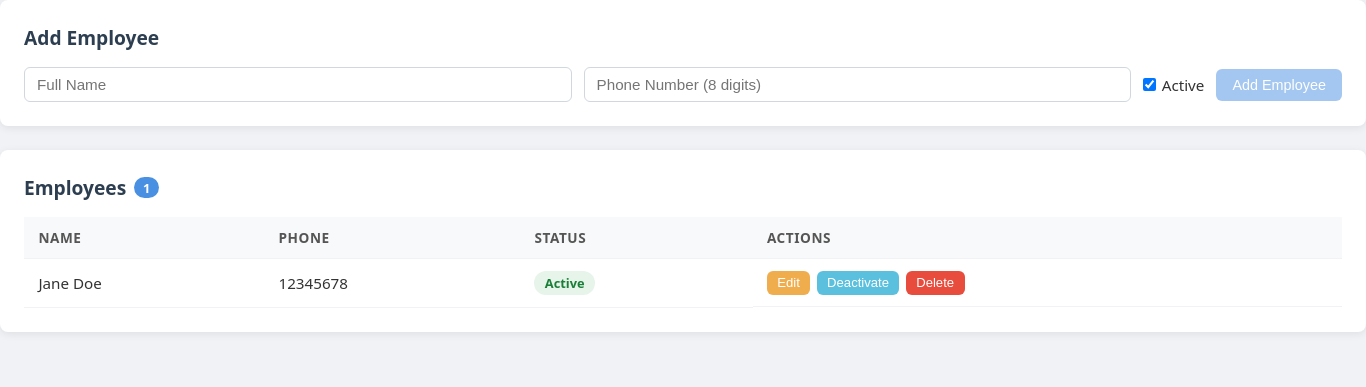
edit employee › shows fetchError when Save fails
Click the button with class "btn-edit": {"x": 789, "y": 283} [767,271,810,295]
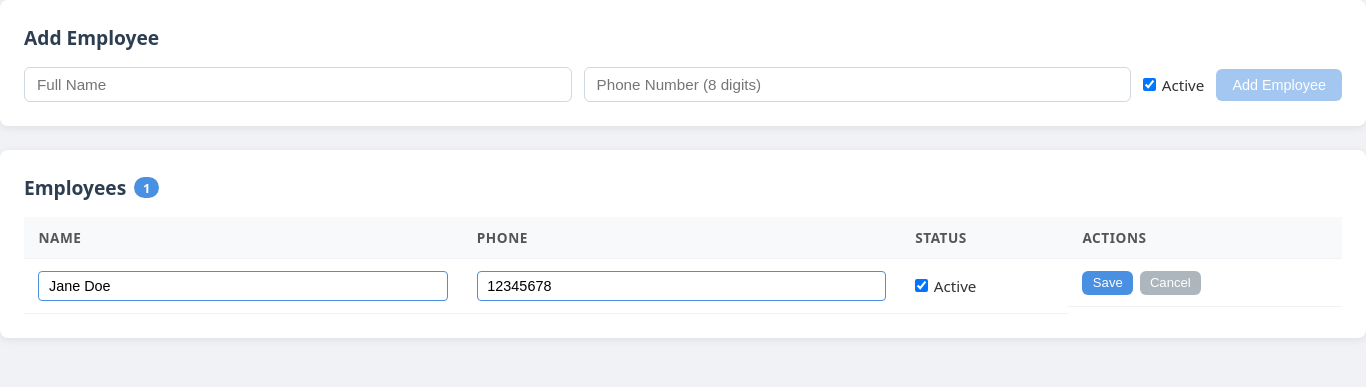
Click the button "Save": {"x": 1108, "y": 283} [1082,271,1133,295]
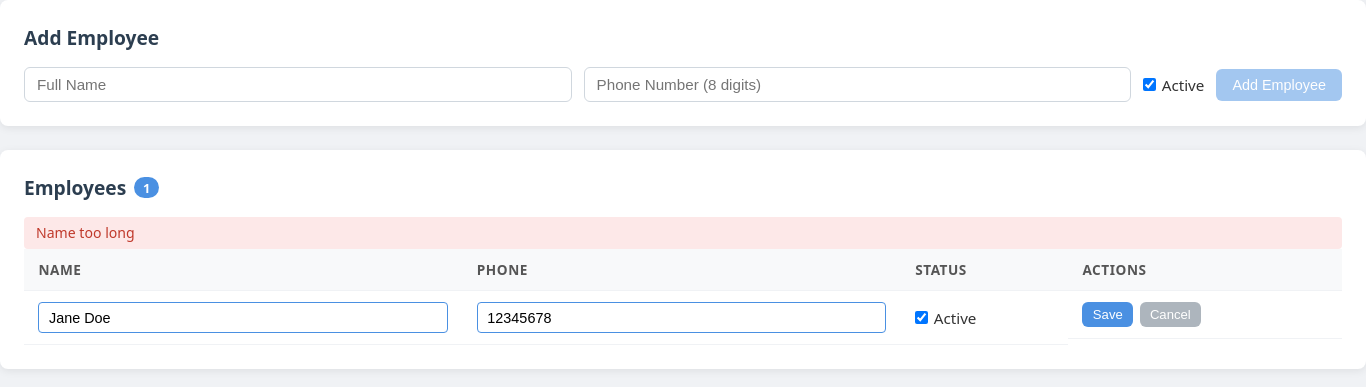
Check: the text "Name too long" is shown, box [24,217,1342,249]
